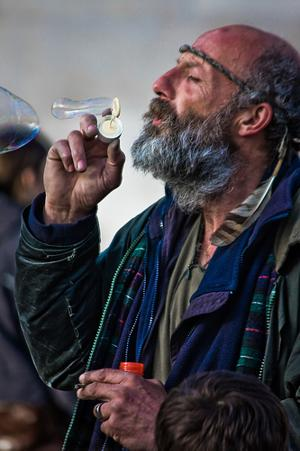person: (14, 18, 300, 449)
